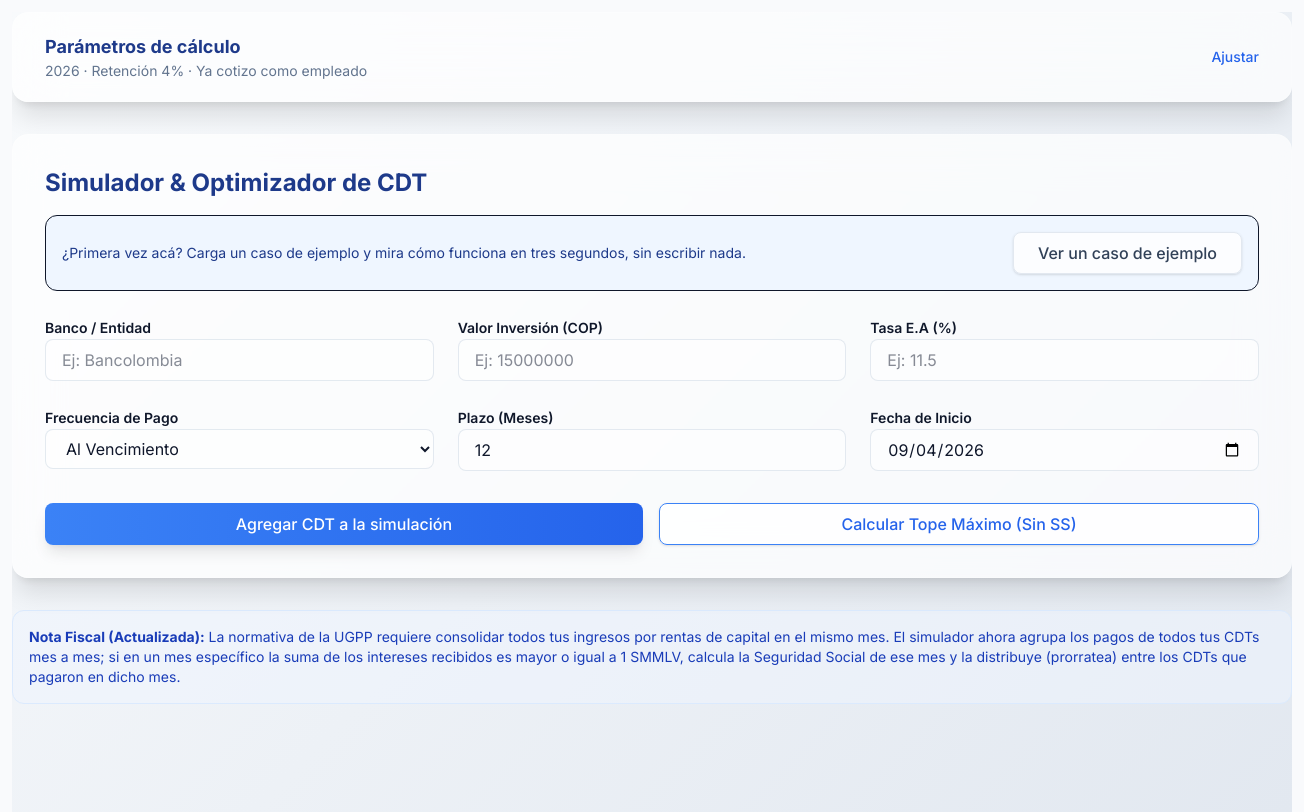
Test: CDTSimulator › muestra errores de validación al enviar el formulario vacío
Click the button "Agregar CDT a la simulación": (344, 524) [45,503,643,545]
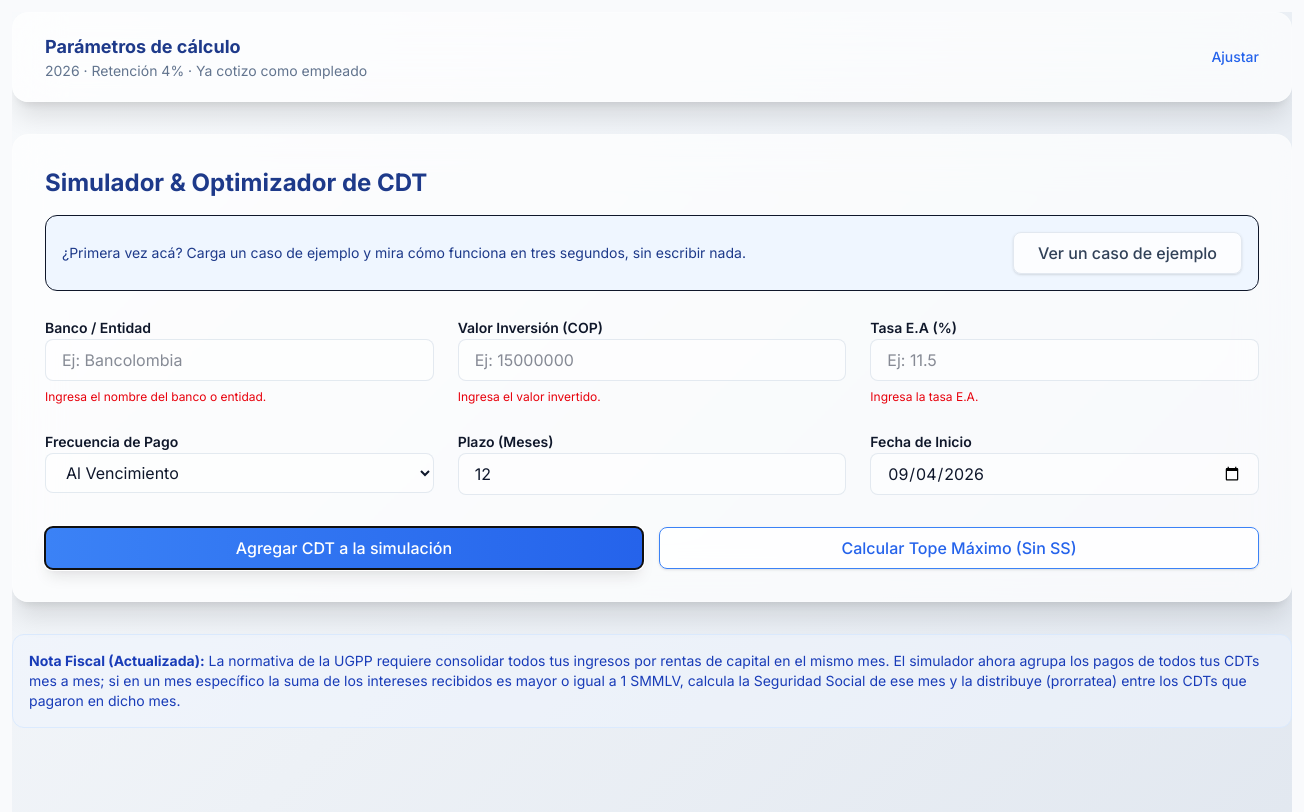
Now the text "Ingresa el nombre del banco o entidad." is shown, box [45,389,266,404]
Now the text "Ingresa el valor invertido." is shown, box [458,389,601,404]
Now the text "Ingresa la tasa E.A." is shown, box [870,389,978,404]
